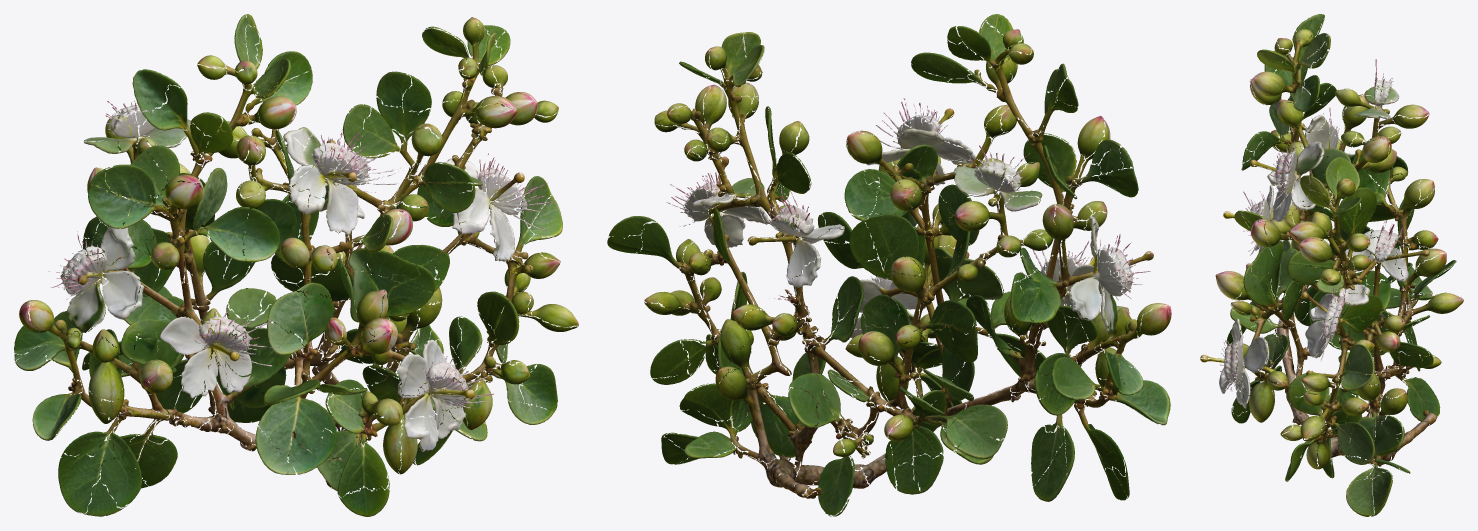
The model's file is qabbar.glb.
3 views of the same model, side by side, from view 1: azimuth 30°, elevation 25°; view 2: azimuth 150°, elevation 25°; view 3: azimuth 270°, elevation 25° (orthographic). The views are drawn at different scales.
Visible parts, largest first — view 1: tripo_node_8d16f5a4-2650-4196-ad40-81dd4280b6af; view 2: tripo_node_8d16f5a4-2650-4196-ad40-81dd4280b6af; view 3: tripo_node_8d16f5a4-2650-4196-ad40-81dd4280b6af.
Boxes of the visible parts, x1,y1,x2,y2 form: tripo_node_8d16f5a4-2650-4196-ad40-81dd4280b6af: (14,14,578,516); tripo_node_8d16f5a4-2650-4196-ad40-81dd4280b6af: (607,14,1171,516); tripo_node_8d16f5a4-2650-4196-ad40-81dd4280b6af: (1200,14,1463,516).
Size of the model in its own units: 0.9796 by 0.8407 by 0.5244.
Materials: 1 (1 with a texture image).
